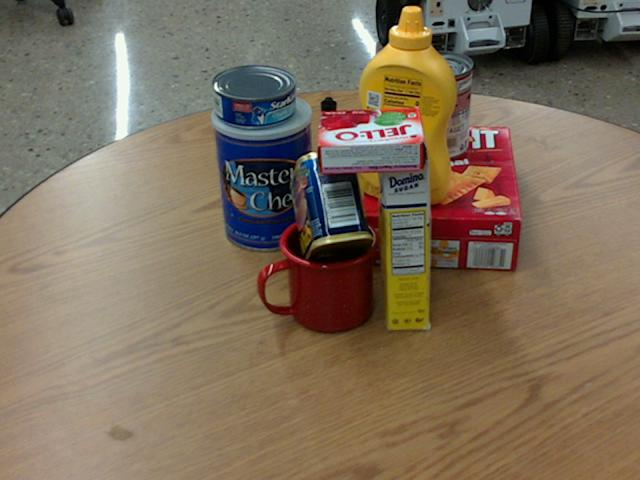cracker_box: (358, 123, 519, 270)
gelatin_box: (315, 106, 425, 172)
large_marker: (319, 98, 337, 198)
master_chef_can: (212, 90, 315, 249)
mug: (254, 214, 376, 333)
mustard_bottle: (356, 6, 456, 203)
potted_meat_can: (289, 150, 374, 270)
sugar_box: (377, 119, 429, 331)
tomato_soup_can: (408, 50, 471, 159)
tuna_fish_can: (211, 64, 295, 126)
